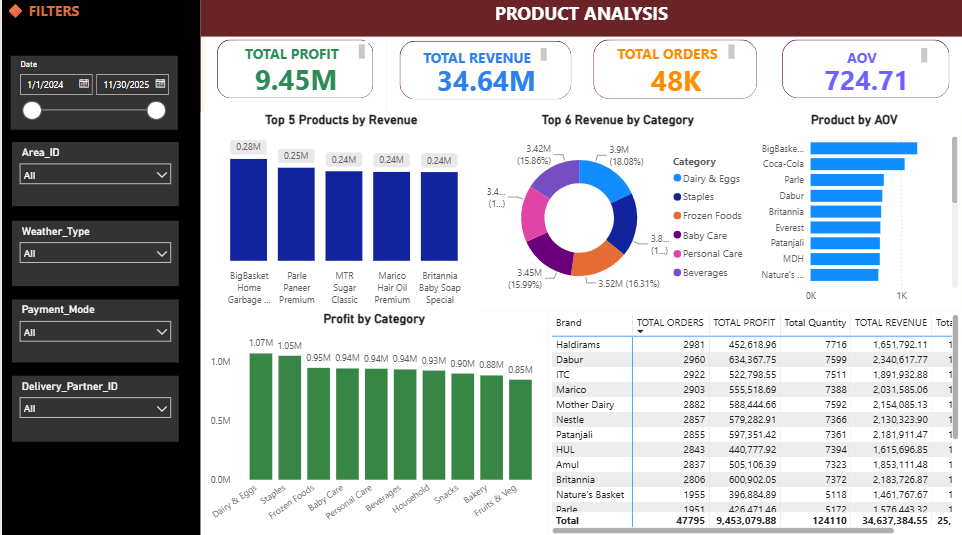

This screenshot's page, from the dashboard's own definition file:
{"tool":"powerbi","page":{"name":"Product Analysis","canvas":[1280,720],"ordinal":2},"visuals":[{"type":"textbox","box":[0,0,265,720],"z":0},{"type":"slicer","fields":{"Values":["Dim_Calendar.Date"]},"box":[12.3,78.2,222.3,97.4],"z":1000},{"type":"slicer","fields":{"Values":["Dim_Area.Area_ID"]},"box":[12.8,193.9,222.4,85.5],"z":2000},{"type":"slicer","fields":{"Values":["Dim_Weather.Weather_Type"]},"box":[12.8,297.9,222.4,86.9],"z":3000},{"type":"slicer","fields":{"Values":["Fact_Sales.Payment_Mode"]},"box":[12.8,403.4,222.4,84.1],"z":4000},{"type":"slicer","fields":{"Values":["Fact_Sales.Delivery_Partner_ID"]},"box":[12.8,504.6,222.4,88.4],"z":5000},{"type":"cardVisual","title":"Tota","fields":{"Data":["Fact_Sales.Total Profit"]},"box":[270,40,242.5,112.5],"z":6000},{"type":"cardVisual","fields":{"Data":["Fact_Sales.Total Revenue"]},"box":[512.5,41.2,263.8,112.5],"z":7000},{"type":"cardVisual","fields":{"Data":["Fact_Sales.Total Orders"]},"box":[772.1,39.8,252.1,113.4],"z":8000},{"type":"cardVisual","title":"AOV","fields":{"Data":["Fact_Sales.AOV"]},"box":[1022.5,40,257.5,112.5],"z":9000},{"type":"clusteredColumnChart","title":"Top 5 Products by Revenue","fields":{"Y":["Fact_Sales.TOTAL REVENUE"],"Category":["Dim_Product.Product_Name"]},"box":[265,152.5,375,265],"z":10000},{"type":"donutChart","title":"Top 6 Revenue by Category","fields":{"Y":["Fact_Sales.TOTAL REVENUE"],"Category":["Dim_Product.Category"]},"box":[640,153.8,362.5,263.8],"z":11000},{"type":"columnChart","title":"Profit by Category","fields":{"Y":["Fact_Sales.TOTAL PROFIT"],"Category":["Dim_Product.Category"]},"box":[265,417.5,462.5,302.5],"z":12000},{"type":"barChart","title":"Product by AOV","fields":{"Category":["Dim_Product.Brand"],"Y":["Fact_Sales.AOV"]},"box":[993.8,153.8,286.2,263.8],"z":13000},{"type":"pivotTable","fields":{"Values":["Fact_Sales.TOTAL ORDERS","Fact_Sales.TOTAL PROFIT","Fact_Sales.Total Quantity","Fact_Sales.TOTAL REVENUE","Fact_Sales.Total Cost"],"Rows":["Dim_Product.Brand"]},"box":[727.5,417.5,552.5,302.5],"z":14000},{"type":"textbox","box":[312.5,57.5,175,31.2],"z":15000},{"type":"textbox","box":[556.2,63.9,174.9,30.2],"z":16000},{"type":"textbox","box":[814.3,57.9,166.5,31.4],"z":17000},{"type":"textbox","box":[1061.7,62.7,177.3,31.4],"z":18000},{"type":"textbox","box":[265,0,1015,52.5],"z":19000}]}

Visuals, with their boxes in screenshot pixels (x1, y1, x2, y2), scaled from the page's 1280x720 canvas onto the 962x535 screenshot:
textbox: [left=0, top=0, right=199, bottom=534]
slicer - Dim_Calendar.Date: [left=9, top=58, right=176, bottom=130]
slicer - Dim_Area.Area_ID: [left=10, top=144, right=177, bottom=208]
slicer - Dim_Weather.Weather_Type: [left=10, top=221, right=177, bottom=286]
slicer - Fact_Sales.Payment_Mode: [left=10, top=300, right=177, bottom=362]
slicer - Fact_Sales.Delivery_Partner_ID: [left=10, top=375, right=177, bottom=441]
"Tota" cardVisual: [left=203, top=30, right=385, bottom=113]
cardVisual - Fact_Sales.Total Revenue: [left=385, top=31, right=583, bottom=114]
cardVisual - Fact_Sales.Total Orders: [left=580, top=30, right=770, bottom=114]
"AOV" cardVisual: [left=768, top=30, right=961, bottom=113]
"Top 5 Products by Revenue" clusteredColumnChart: [left=199, top=113, right=481, bottom=310]
"Top 6 Revenue by Category" donutChart: [left=481, top=114, right=753, bottom=310]
"Profit by Category" columnChart: [left=199, top=310, right=547, bottom=534]
"Product by AOV" barChart: [left=747, top=114, right=961, bottom=310]
pivotTable - Fact_Sales.TOTAL ORDERS x Fact_Sales.TOTAL PROFIT: [left=547, top=310, right=961, bottom=534]
textbox: [left=235, top=43, right=366, bottom=66]
textbox: [left=418, top=47, right=549, bottom=70]
textbox: [left=612, top=43, right=737, bottom=66]
textbox: [left=798, top=47, right=931, bottom=70]
textbox: [left=199, top=0, right=961, bottom=39]
